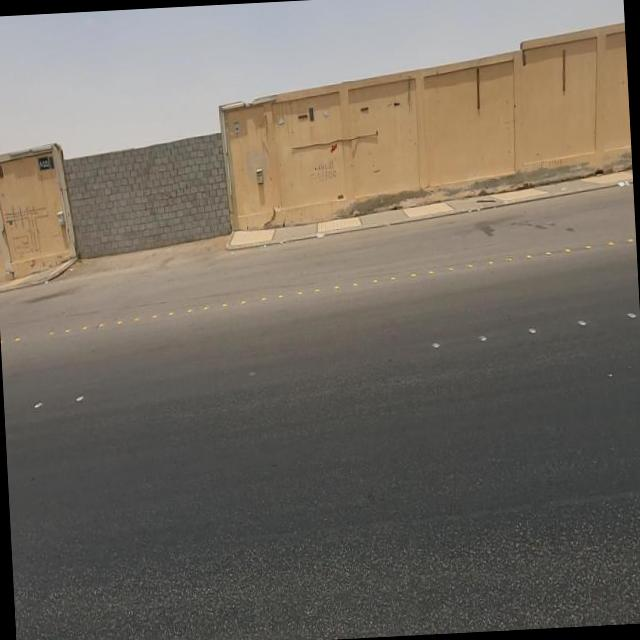debris: (280, 123, 372, 215)
